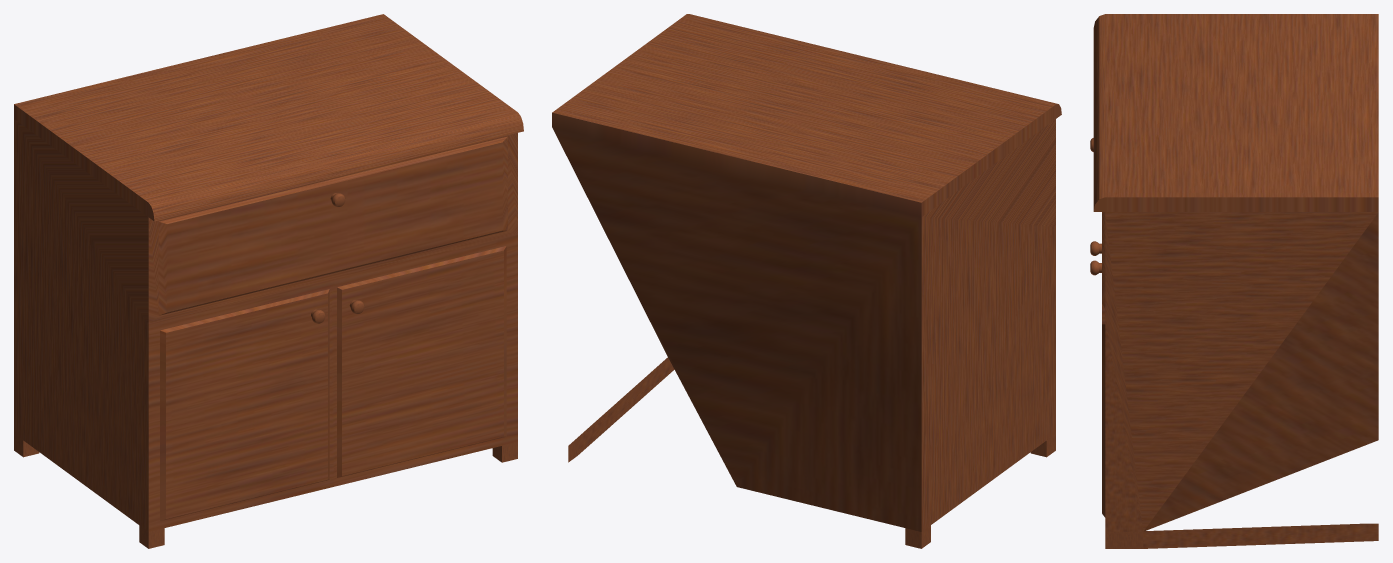
File: K_chenschrank_geschlossen_1.fbx
3 renders of one model, left to right at view 1: azimuth 30°, elevation 25°; view 2: azimuth 150°, elevation 25°; view 3: azimuth 270°, elevation 25°, orthographic.
Visible parts, largest first — view 1: Küchenschrank 1; view 2: Küchenschrank 1; view 3: Küchenschrank 1.
Boxes of the visible parts, <box> form: Küchenschrank 1: <box>14,14,523,548</box>; Küchenschrank 1: <box>552,14,1061,548</box>; Küchenschrank 1: <box>1090,14,1378,548</box>.
Size of the model in its own units: 1 by 0.8954 by 0.6655.
